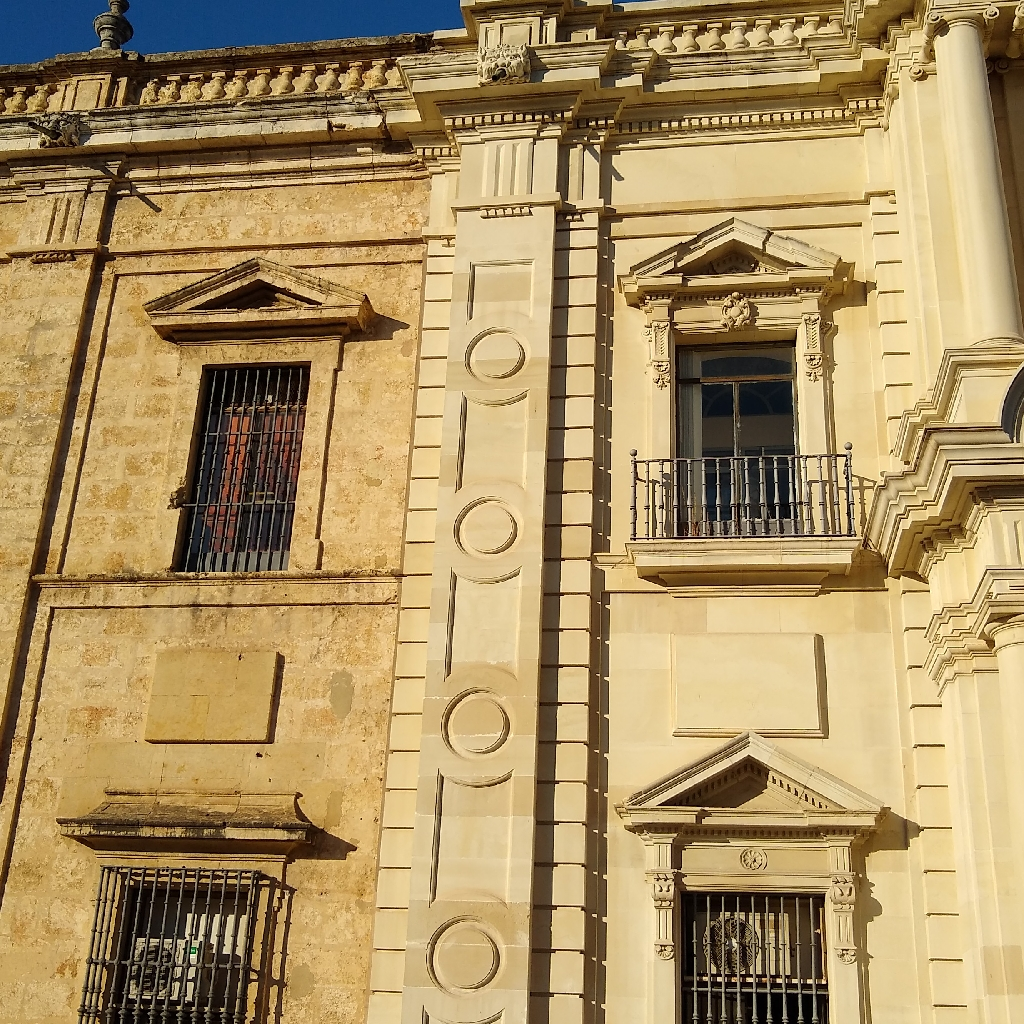fronton: (616, 732, 883, 836), (615, 212, 850, 291), (139, 259, 373, 329)
vano-adintelado: (156, 342, 346, 580), (643, 310, 838, 541), (640, 859, 871, 1024)
